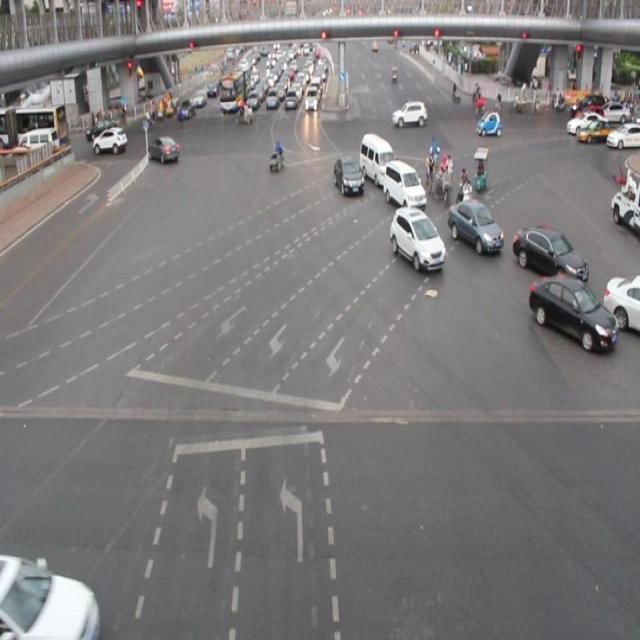car: (0, 547, 100, 640), (528, 271, 614, 349), (510, 218, 587, 282), (390, 205, 444, 268), (446, 198, 502, 252), (602, 269, 640, 332), (333, 155, 362, 196), (148, 132, 180, 164)
truck: (382, 160, 424, 209), (358, 131, 392, 185)
